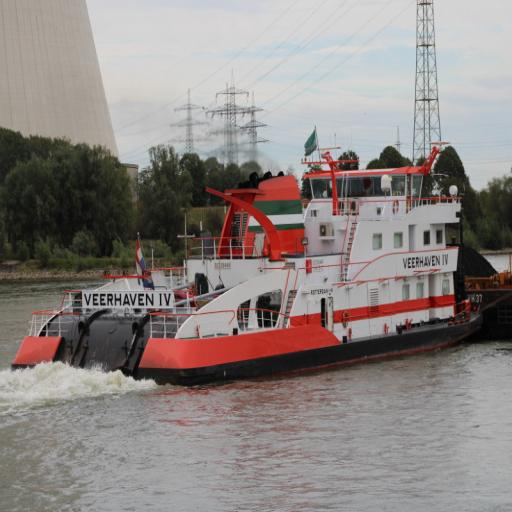tugboat: (10, 125, 494, 402)
